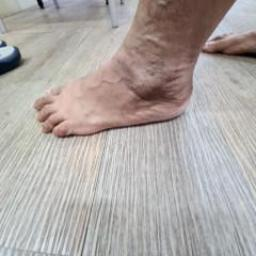Lateral View -Left Foot-: (18, 41, 222, 148)
